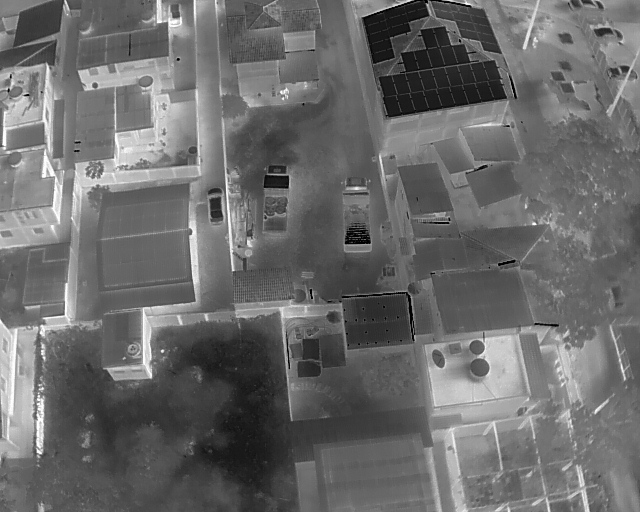car: (521, 190, 553, 234), (602, 280, 628, 315), (205, 185, 226, 225), (589, 24, 624, 43), (605, 64, 639, 83), (565, 0, 605, 15), (165, 1, 184, 28)
person: (279, 88, 285, 103), (284, 86, 290, 101), (533, 36, 539, 50), (531, 33, 536, 48)
truck: (337, 169, 374, 255), (258, 159, 291, 236)
